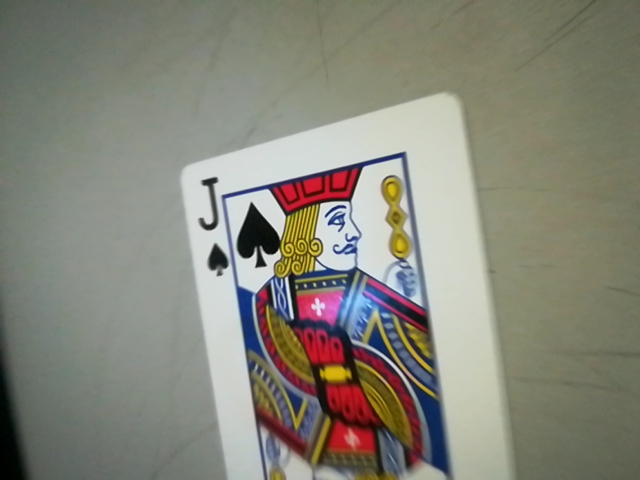ht j: (184, 166, 235, 281)
